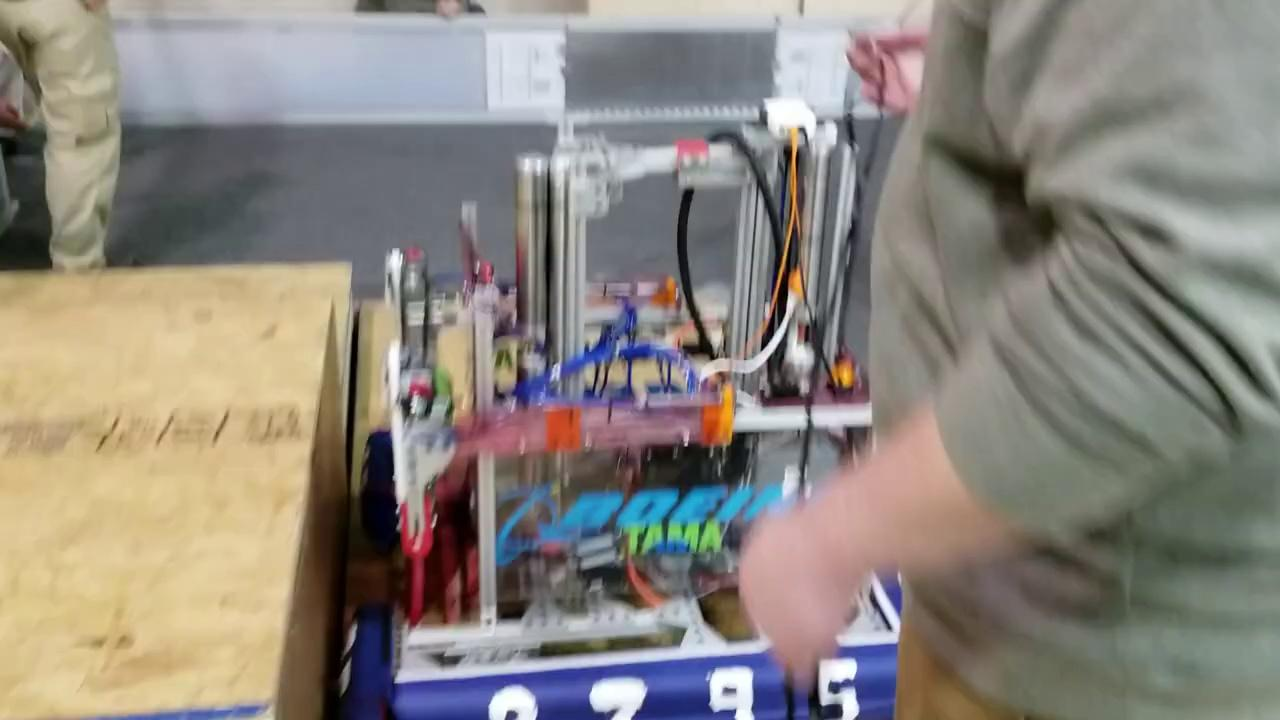robot: (338, 110, 897, 720)
